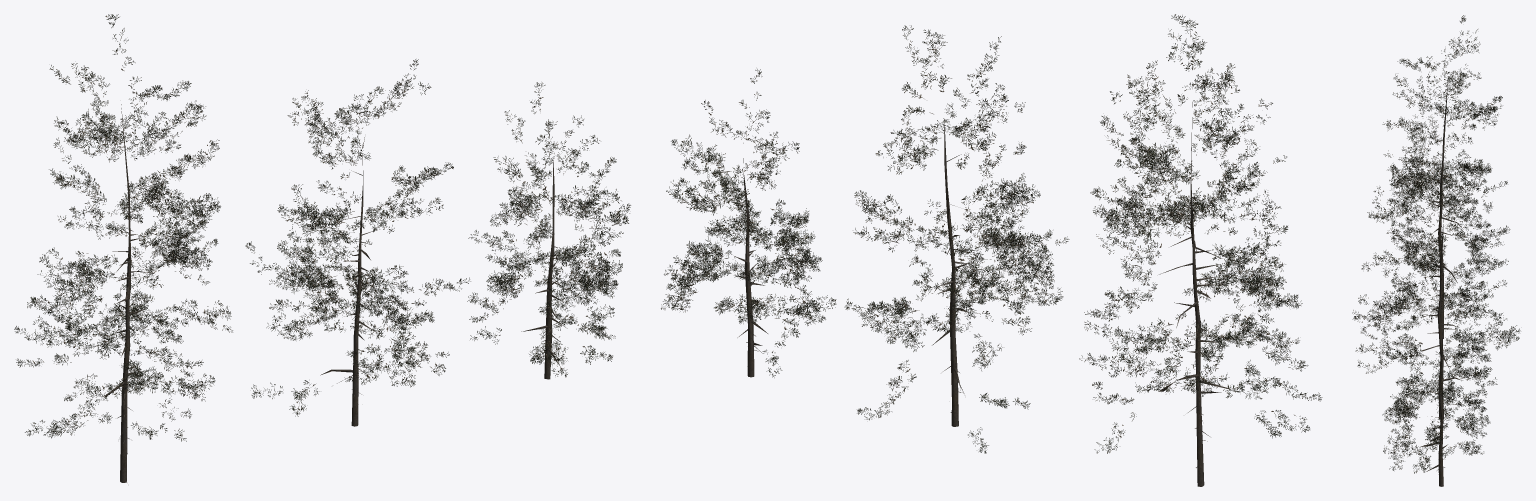
Rendered from pine_sapling_medium-lod.glb.
3 views of the same model, side by side, from view 1: azimuth 30°, elevation 25°; view 2: azimuth 150°, elevation 25°; view 3: azimuth 270°, elevation 25° (orthographic). The views are drawn at different scales.
Visible parts, largest first — view 1: pine_sapling_medium_a_LOD0, pine_sapling_medium_b_LOD0, pine_sapling_medium_c_LOD0; view 2: pine_sapling_medium_a_LOD0, pine_sapling_medium_b_LOD0, pine_sapling_medium_c_LOD0; view 3: pine_sapling_medium_a_LOD0, pine_sapling_medium_b_LOD0, pine_sapling_medium_c_LOD0.
Part boxes in pixels (<box>): pine_sapling_medium_a_LOD0: <box>14,14,232,482</box>; pine_sapling_medium_b_LOD0: <box>245,59,470,426</box>; pine_sapling_medium_c_LOD0: <box>467,82,630,379</box>; pine_sapling_medium_a_LOD0: <box>1079,14,1322,486</box>; pine_sapling_medium_b_LOD0: <box>844,25,1069,453</box>; pine_sapling_medium_c_LOD0: <box>661,69,836,377</box>; pine_sapling_medium_a_LOD0: <box>1361,15,1510,338</box>; pine_sapling_medium_b_LOD0: <box>1352,160,1520,427</box>; pine_sapling_medium_c_LOD0: <box>1382,295,1492,486</box>.
Bounding box in the file's own units: 15.48 × 11.35 × 5.38.
3 materials, 3 textured.
